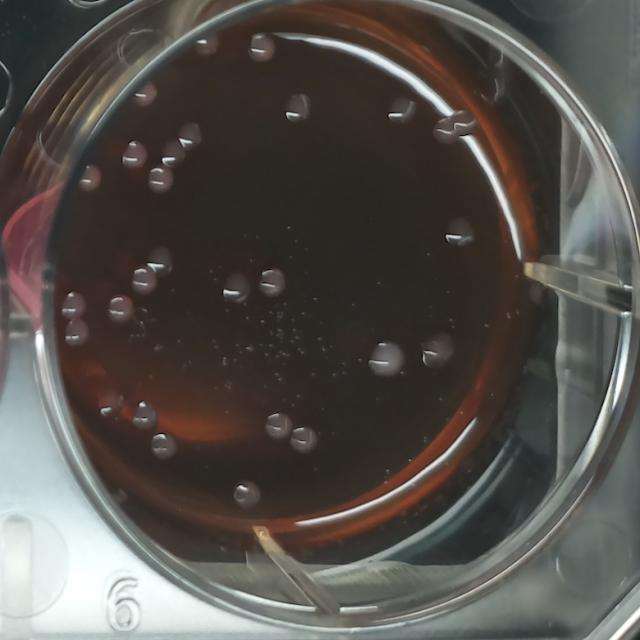Bacillus: (365, 336, 408, 383)
Pseudoalteromonas: (278, 89, 314, 131), (242, 29, 280, 68), (219, 268, 253, 308), (229, 479, 265, 514), (383, 94, 418, 130), (147, 427, 178, 467), (262, 409, 295, 446), (118, 136, 151, 172), (56, 288, 89, 324), (290, 422, 321, 460), (127, 264, 159, 300), (258, 266, 290, 302), (128, 398, 159, 434), (448, 104, 481, 137), (430, 115, 462, 149), (105, 294, 136, 328), (146, 162, 176, 196), (63, 317, 93, 349)
